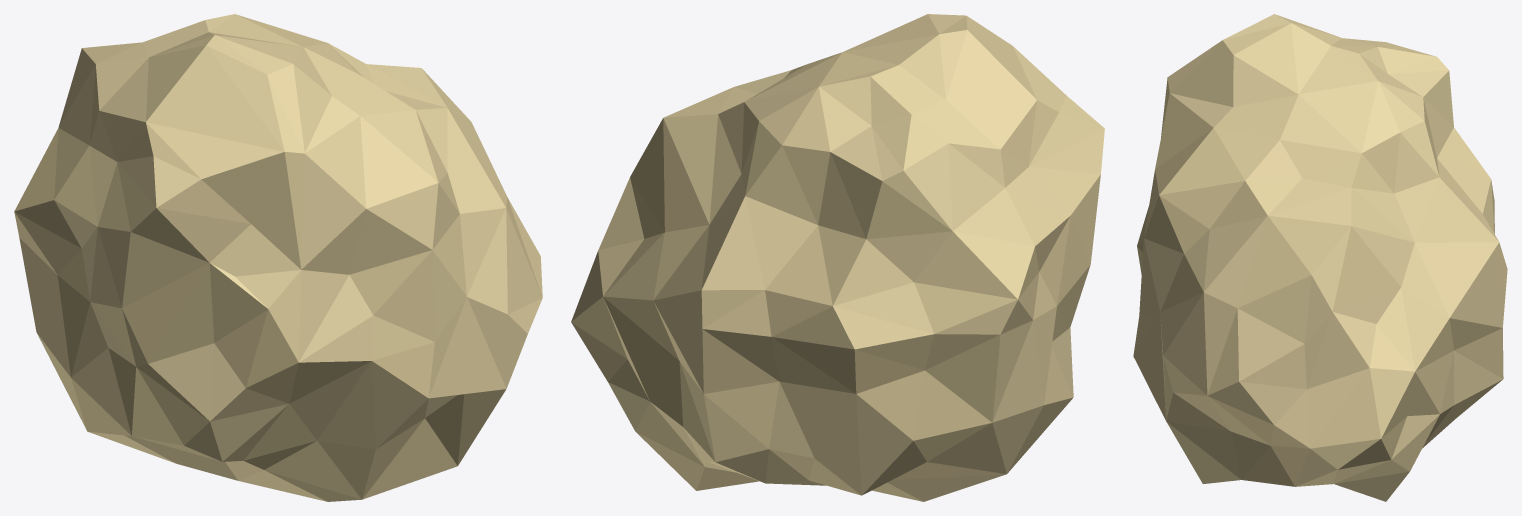
File: Asteroid (128).fbx
The picture shows the model from 3 angles, left to right: view 1: azimuth 30°, elevation 25°; view 2: azimuth 150°, elevation 25°; view 3: azimuth 270°, elevation 25°; orthographic projection. The views are drawn at different scales.
Parts seen in each view (by area): view 1: Asteroid221; view 2: Asteroid221; view 3: Asteroid221.
Boxes of the visible parts, x1,y1,x2,y2 form: Asteroid221: (14,14,542,501); Asteroid221: (571,14,1104,501); Asteroid221: (1133,14,1507,501).
Bounding box in the file's own units: 295 × 285 × 241.
